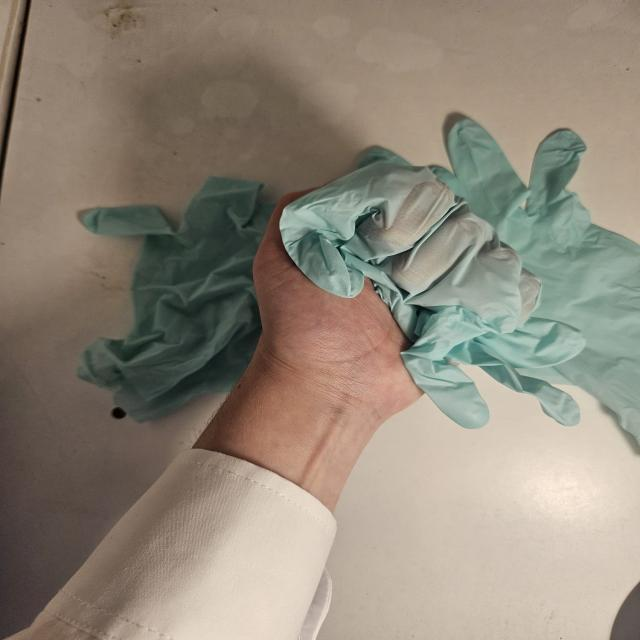glove_partial: (250, 161, 587, 430)
